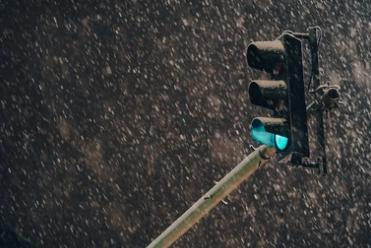green_light: (246, 33, 310, 164)
